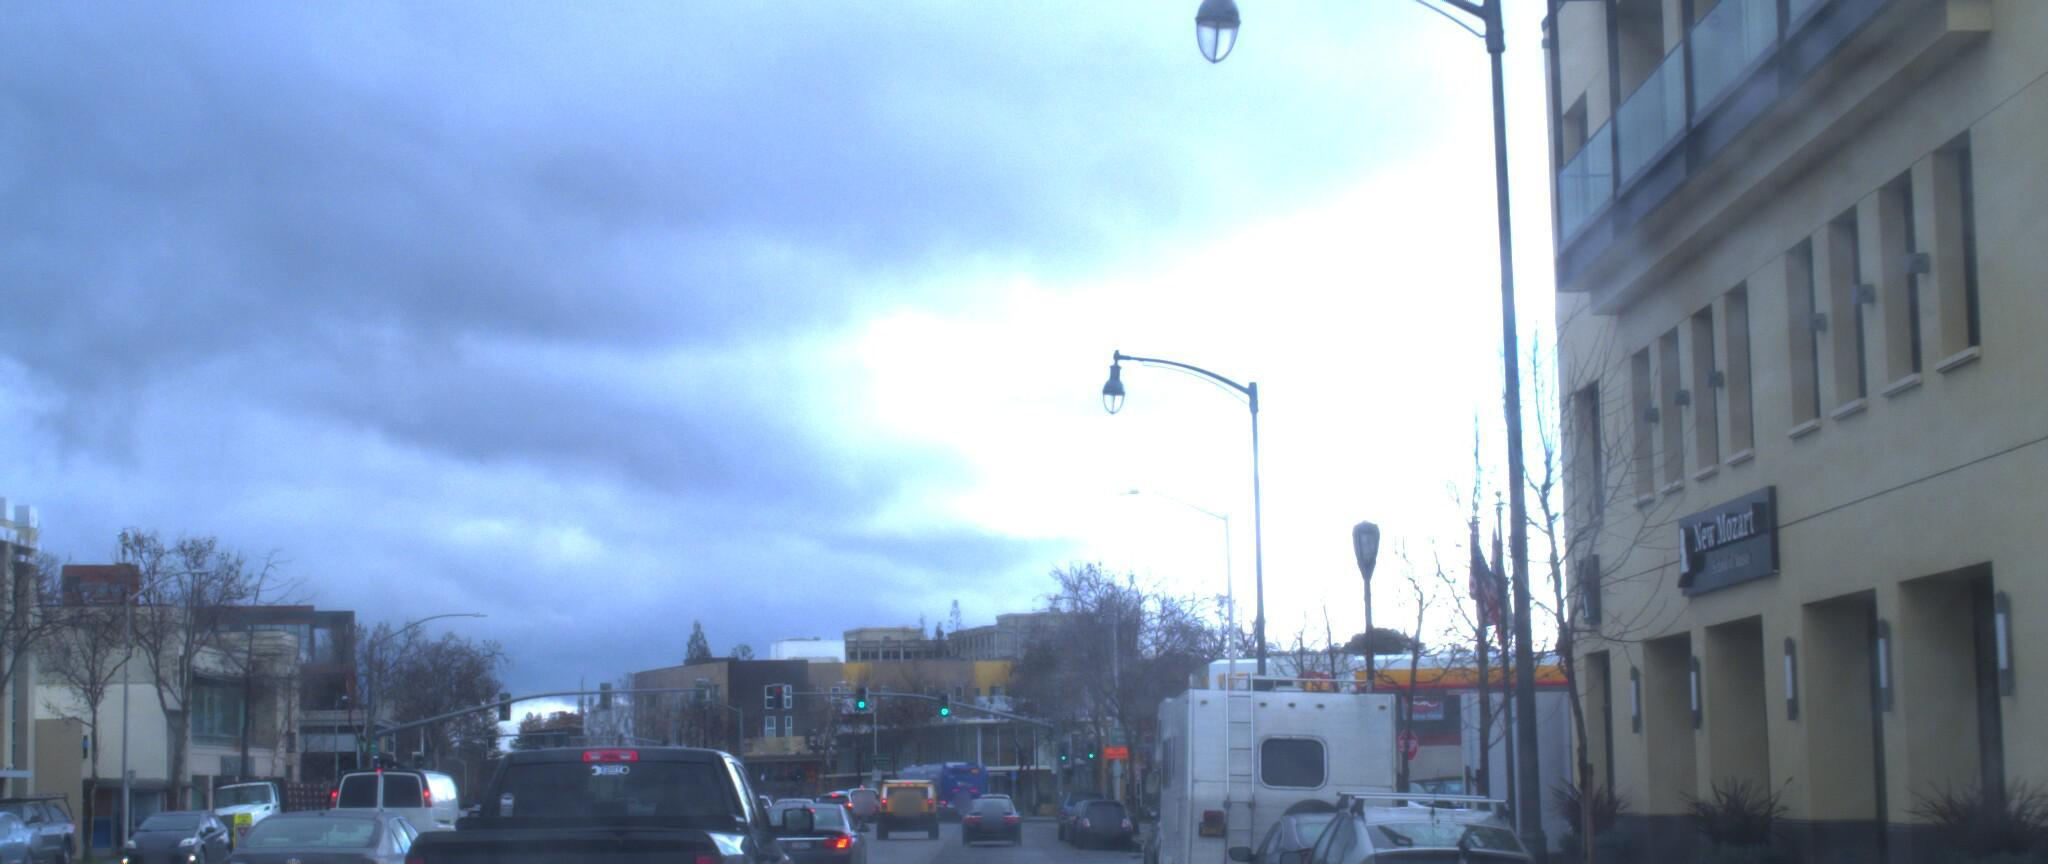car: (408, 733, 819, 864), (1279, 780, 1563, 864), (210, 792, 473, 864), (329, 756, 490, 864), (1206, 810, 1428, 864), (102, 797, 242, 864), (777, 794, 903, 864), (0, 803, 43, 864)
other_vehicle: (1125, 659, 1422, 864)
